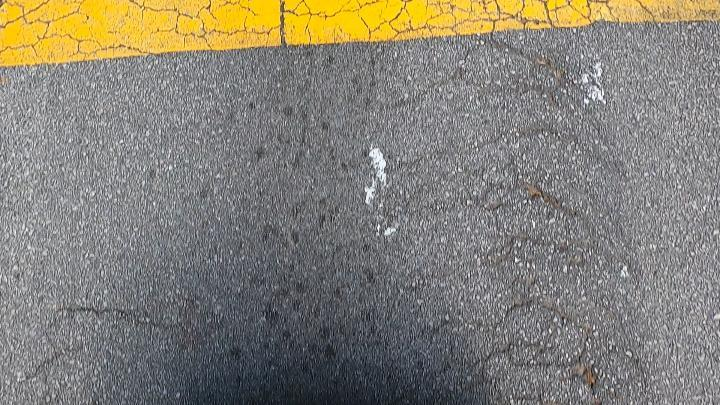Crack: (430, 176, 626, 393), (62, 297, 189, 337), (502, 342, 596, 386), (510, 294, 591, 337), (439, 186, 566, 210), (64, 304, 178, 326), (489, 236, 602, 255)
Lane: (2, 1, 719, 71), (0, 0, 719, 65)
